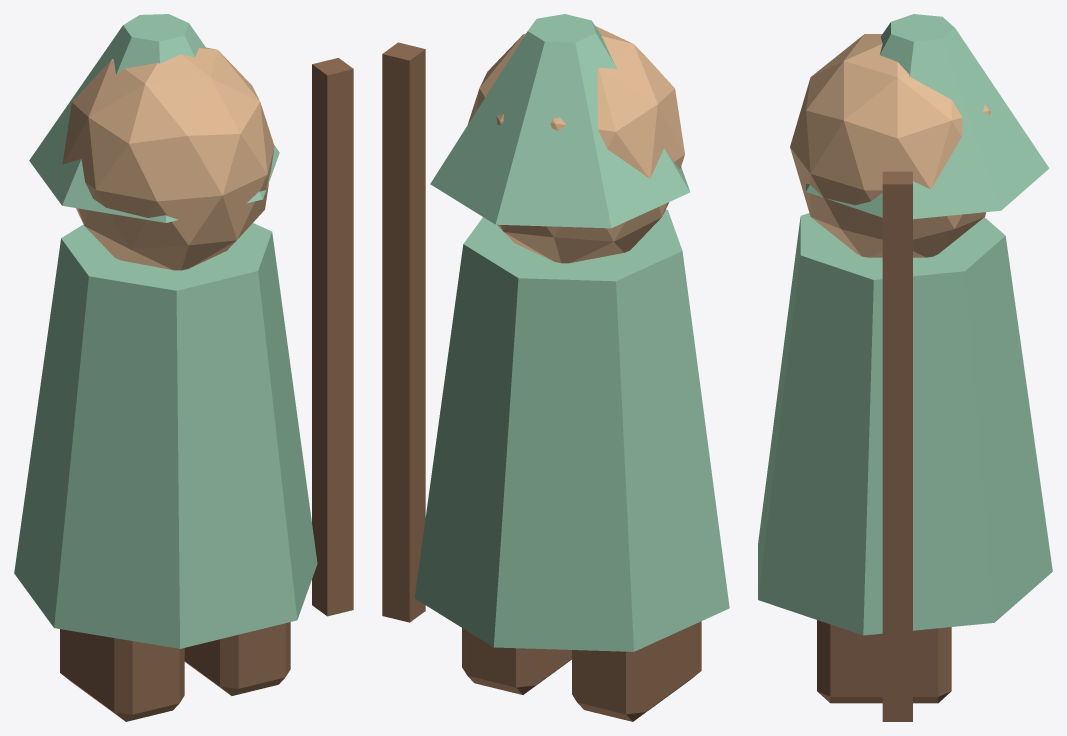
File: agent-0.glb
3 views of the same model, side by side, from view 1: azimuth 30°, elevation 25°; view 2: azimuth 150°, elevation 25°; view 3: azimuth 270°, elevation 25° (orthographic). The views are drawn at different scales.
Parts seen in each view (by area): view 1: Body, Head, Staff, Boot, Hood, Boot.001; view 2: Body, Hood, Staff, Head, Boot, Boot.001; view 3: Body, Head, Staff, Hood, Boot.001.
Part boxes in pixels (box(x1,y1,x2,y2)): Body: box(14, 223, 317, 648); Head: box(62, 47, 274, 270); Staff: box(312, 58, 353, 616); Boot: box(60, 629, 184, 721); Hood: box(29, 14, 279, 222); Boot.001: box(184, 622, 290, 695); Body: box(414, 209, 729, 651); Hood: box(430, 14, 690, 228); Staff: box(382, 42, 425, 622); Head: box(467, 26, 684, 263); Boot: box(572, 621, 701, 721); Boot.001: box(462, 628, 571, 694); Body: box(758, 213, 1052, 635); Head: box(790, 34, 990, 257); Staff: box(882, 171, 912, 721); Hood: box(806, 14, 1049, 219); Boot.001: box(817, 620, 951, 703).
Bounding box in the file's own units: 0.5267 × 1.05 × 0.4372.
